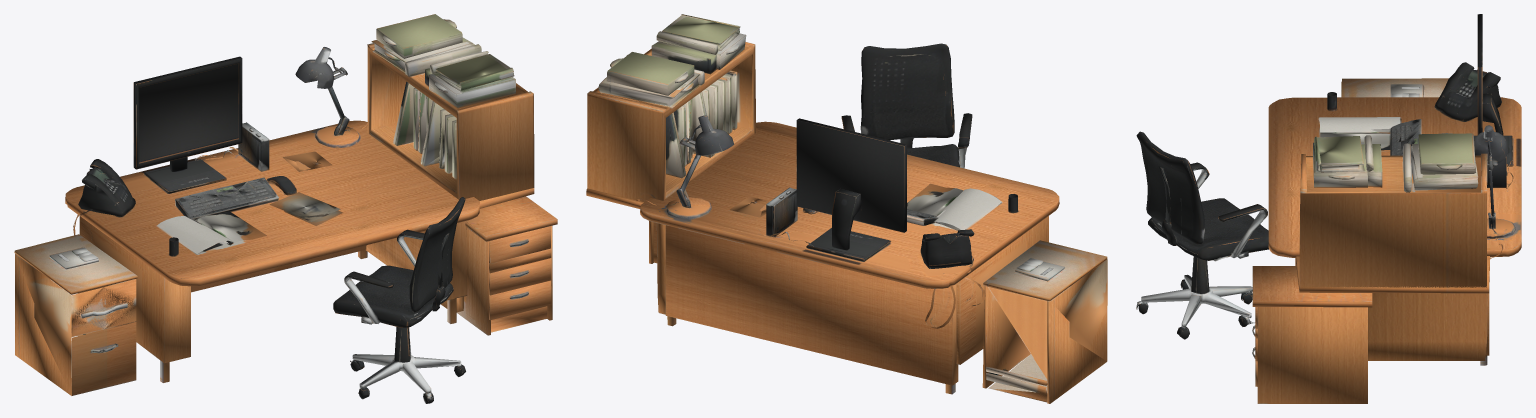
The model's file is interior-office-desk.glb.
3 views of the same model, side by side, from view 1: azimuth 30°, elevation 25°; view 2: azimuth 150°, elevation 25°; view 3: azimuth 270°, elevation 25° (orthographic).
Size of the model in its own units: 0.9579 by 0.48 by 0.708.
Materials: 1 (1 with a texture image).
